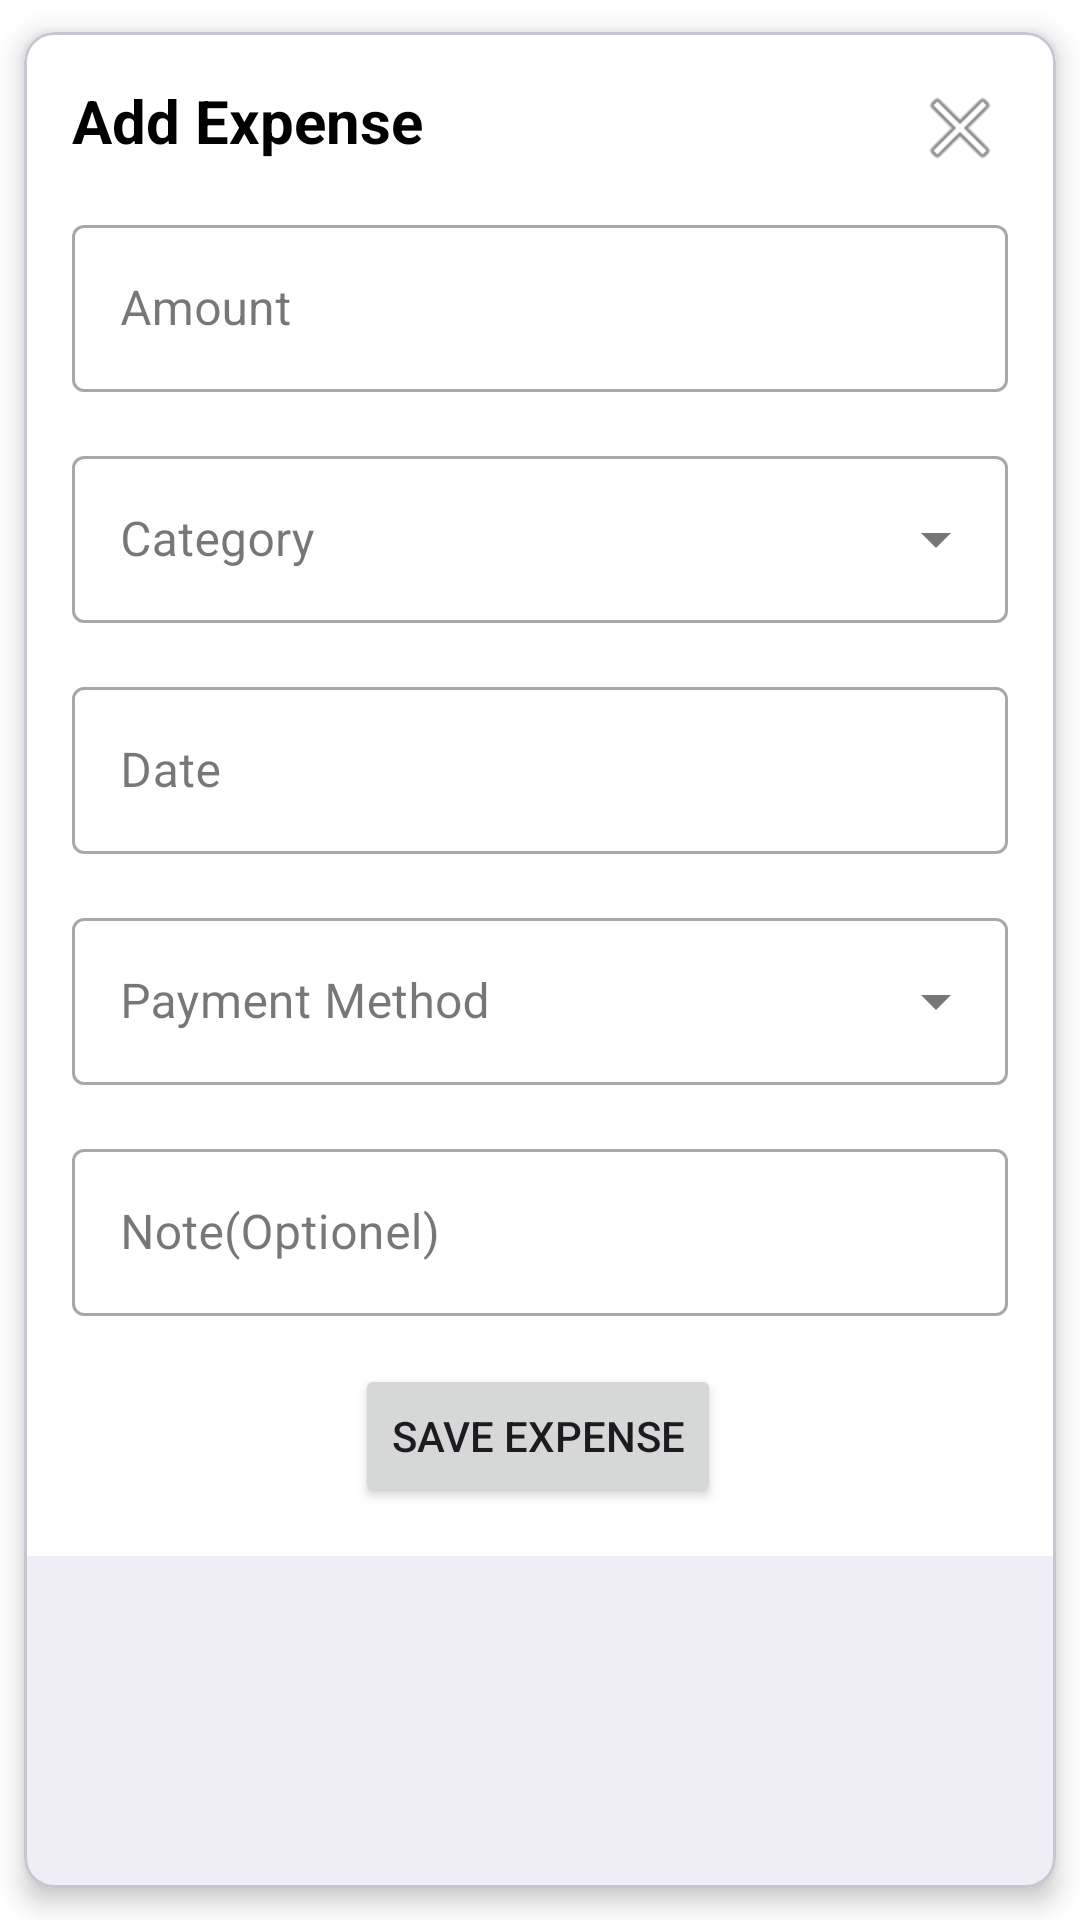

Icon bounding boxes for this 1080 × 1920 phone screenshot, format Rect(x1, y1, x2, y2):
close clear cancel: Rect(930, 98, 990, 158)
